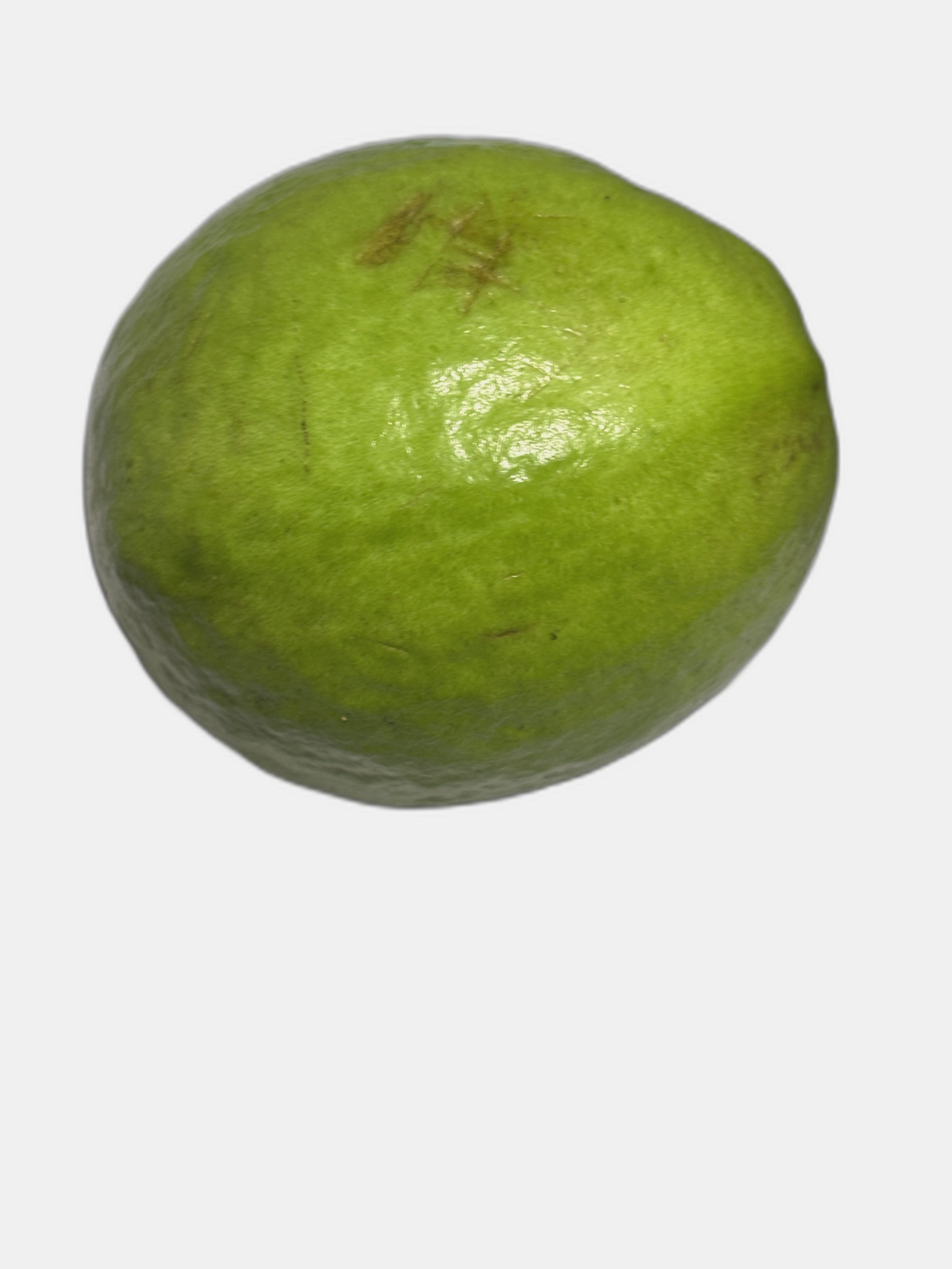guava: (93, 232, 895, 1125)
